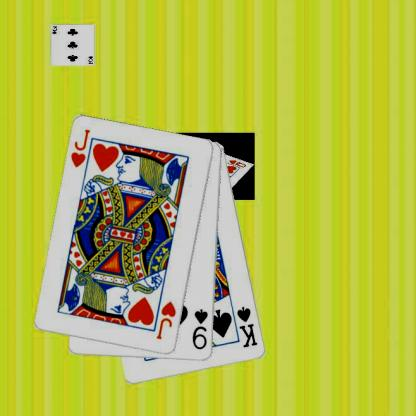9S: (190, 306, 209, 352)
JH: (154, 299, 178, 341), (68, 127, 92, 169)
KS: (235, 303, 259, 349)
